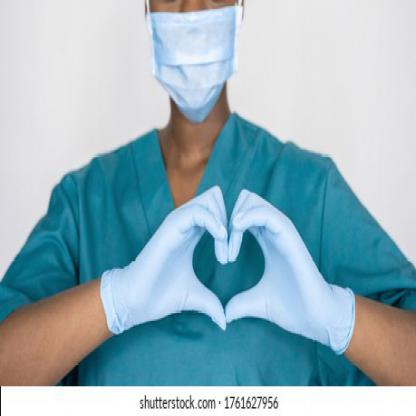with_gloves: (227, 189, 356, 355), (98, 184, 226, 332)
